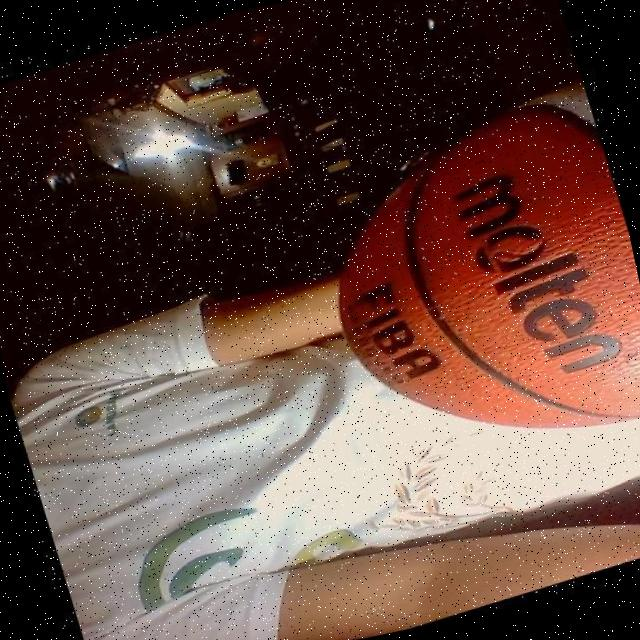ball: (284, 74, 640, 504)
